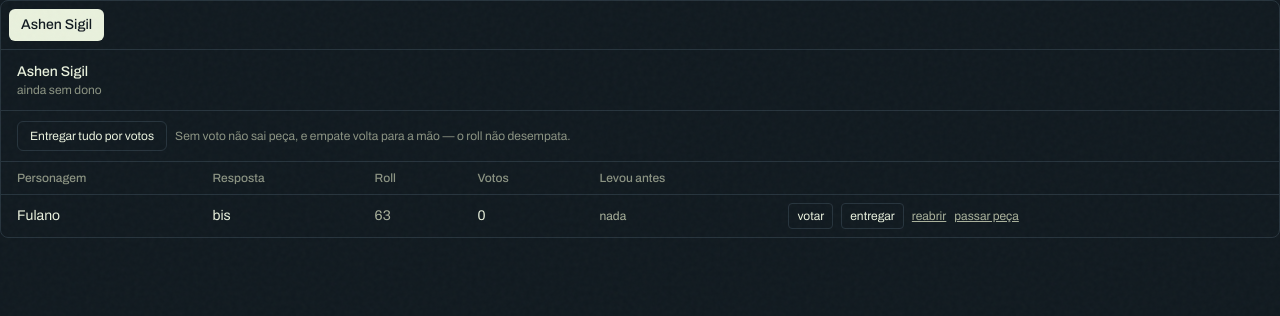
QuadroDoConselho › a entrega em massa mostra o que pulou, com o motivo
The image size is (1280, 316).
Click the button "Entregar tudo por votos" at (92, 136), box [17,121,167,151]
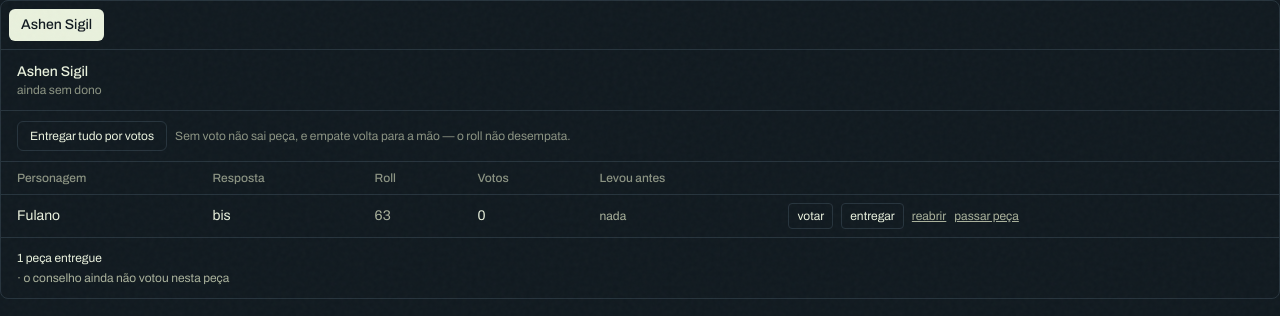
Result: the text "1 peça entregue" is shown at [17,251,102,265]
Result: the list item "· o conselho ainda não votou nesta peça" is shown at [17,271,229,285]
